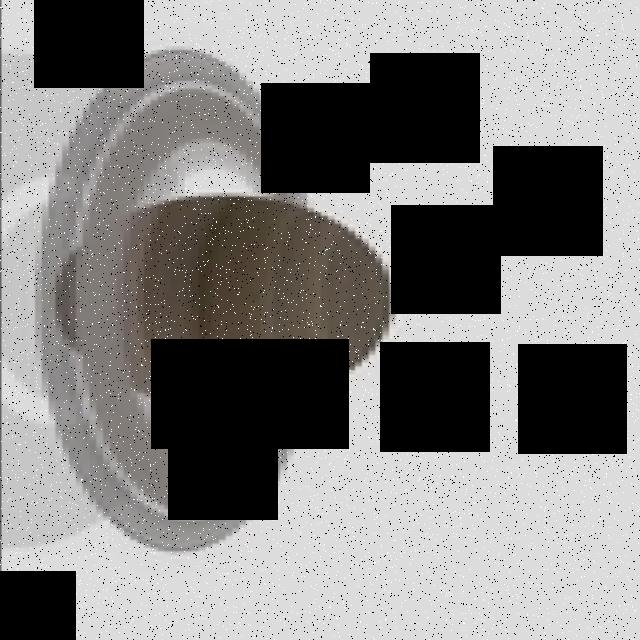Saturn: (29, 42, 400, 556)
